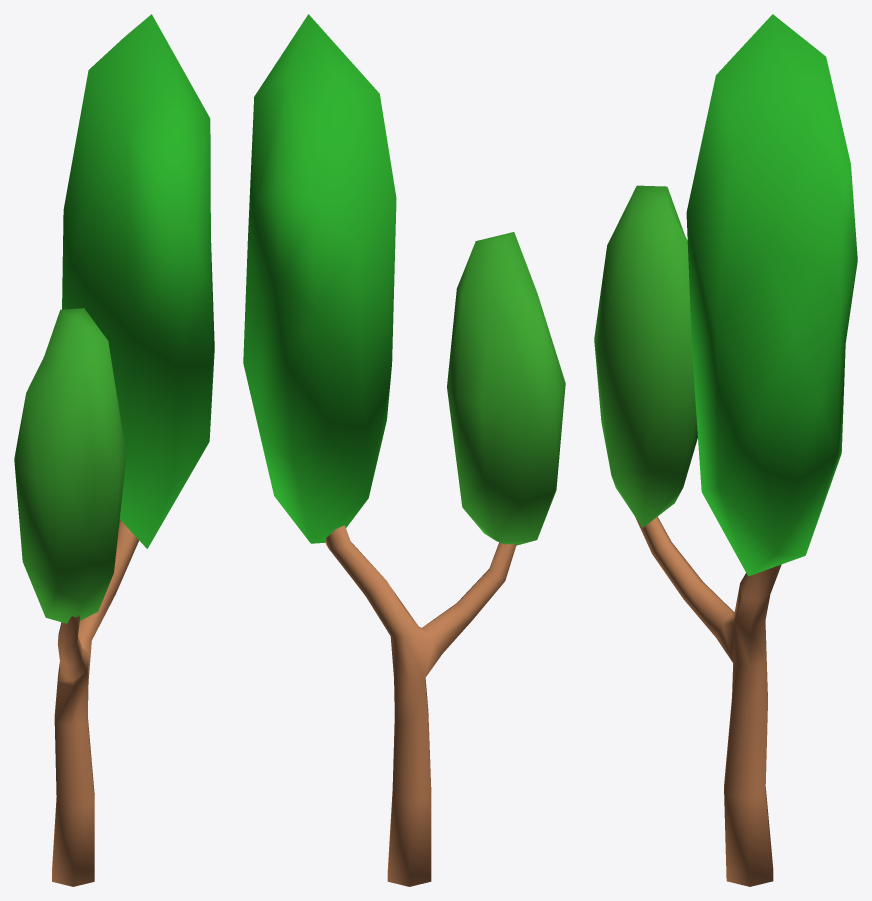
Rendered from TraHojbush3.FBX.
The picture shows the model from 3 angles, left to right: view 1: azimuth 30°, elevation 25°; view 2: azimuth 150°, elevation 25°; view 3: azimuth 270°, elevation 25°; orthographic projection. The views are drawn at different scales.
Visible parts, largest first — view 1: b12:GeoSphere023, b1:GeoSphere024, _Cylinder007; view 2: b12:GeoSphere023, b1:GeoSphere024, _Cylinder007; view 3: b12:GeoSphere023, b1:GeoSphere024, _Cylinder007.
Part boxes in pixels (box(x1,y1,x2,y2)): b12:GeoSphere023: box(62, 14, 214, 548); b1:GeoSphere024: box(14, 308, 126, 623); _Cylinder007: box(52, 519, 138, 886); b12:GeoSphere023: box(243, 14, 396, 543); b1:GeoSphere024: box(447, 232, 565, 545); _Cylinder007: box(325, 525, 516, 886); b12:GeoSphere023: box(686, 14, 857, 576); b1:GeoSphere024: box(594, 185, 697, 527); _Cylinder007: box(635, 516, 781, 886).
Size of the model in its own units: 58.48 by 189 by 49.77.
